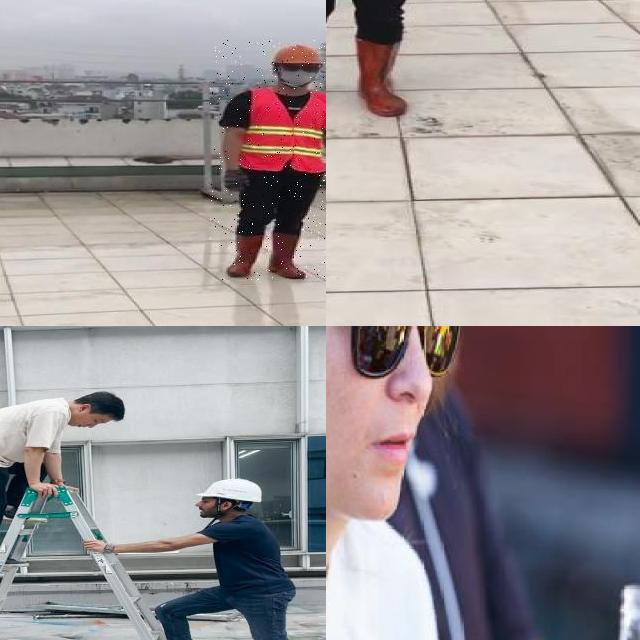boots: (352, 36, 407, 118), (267, 231, 310, 280), (230, 232, 262, 278)
face_nomask: (337, 326, 451, 484), (73, 411, 113, 432), (193, 494, 212, 517)
glasses: (326, 326, 465, 391)
hand_noglove: (81, 534, 113, 554), (28, 478, 56, 500)
head_helmet: (194, 474, 265, 504), (270, 42, 324, 66)
head_nohelmet: (89, 381, 132, 423)
person: (326, 326, 493, 640), (145, 460, 313, 640), (210, 39, 326, 280), (0, 373, 127, 577)
shoes: (0, 545, 34, 572)
vest: (244, 88, 326, 175)
